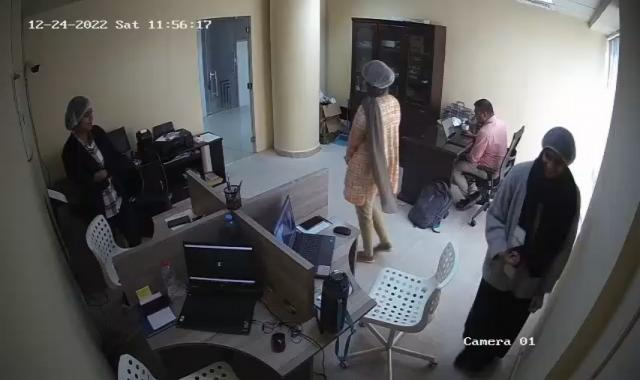hairnet: (540, 129, 576, 181), (360, 59, 394, 97), (64, 95, 95, 134)
no_hairnet: (472, 97, 494, 125)
